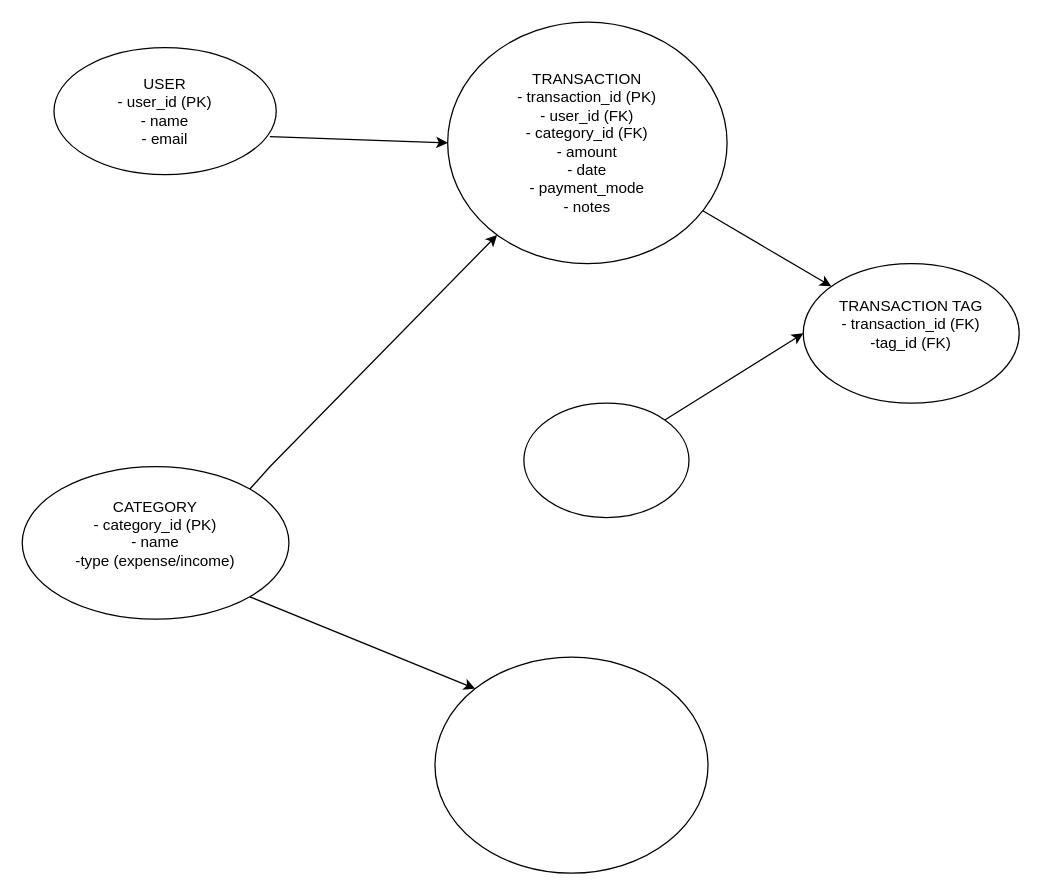
The diagram is 1041 pixels wide and 895 high, and some of its shapes have lost their labels. Here are the shapes that lost their labels. From the top down, the centre of each, then its label:
point 606,460: TAG - tag_id (PK) - tag_name
point 571,764: BUDGET - budget_id (PK) - category_id (FK) - month - budget_limit
